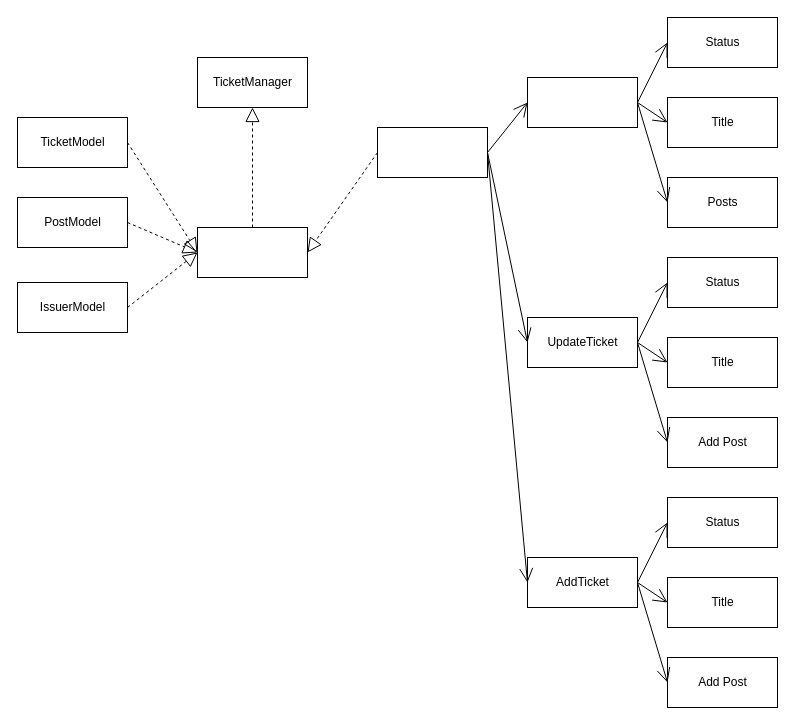
Image size: 795x725. Some labels were removed from this diagram. The box of each missing label's shape, as (x1, y1, x2, y2) in pixels:
GetTicket: (526, 76, 638, 128)
TicketController: (196, 226, 308, 278)
TicketView: (376, 126, 488, 178)
